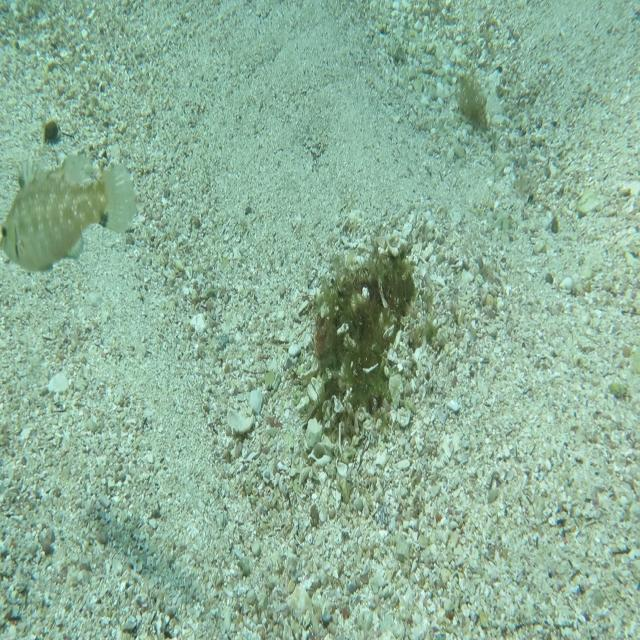CHASE_FLEE: (0, 147, 138, 277)
core_nest: (354, 268, 394, 303)
nest: (286, 220, 431, 458)
